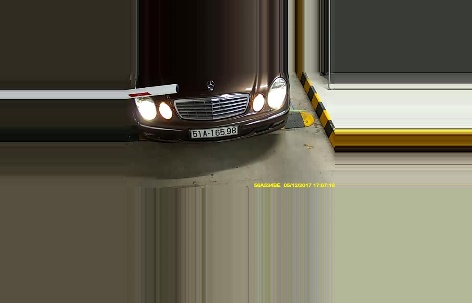plate: (187, 123, 237, 137)
